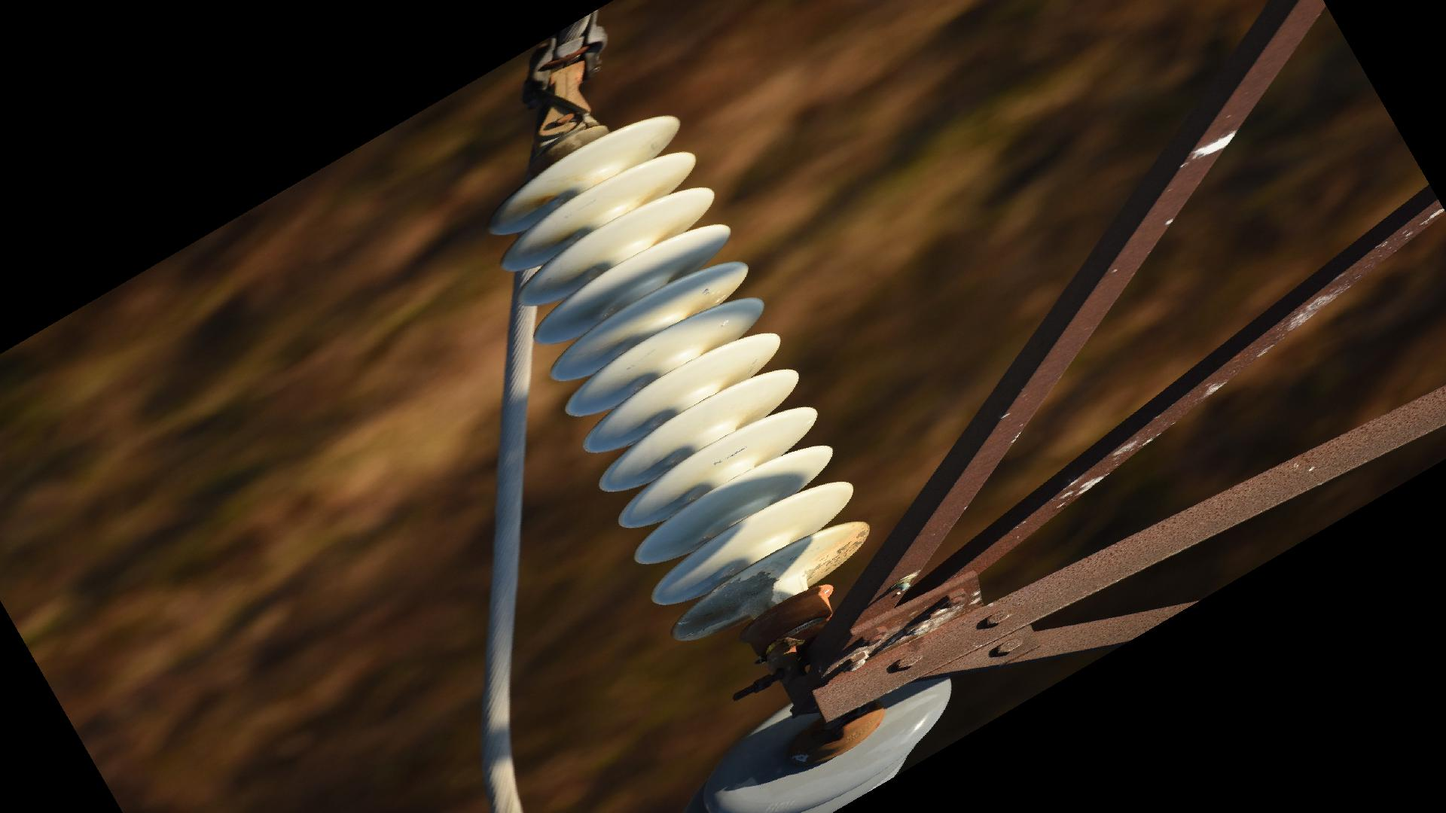insulator: (482, 104, 877, 654)
insulator_flashover: (667, 569, 779, 644)
